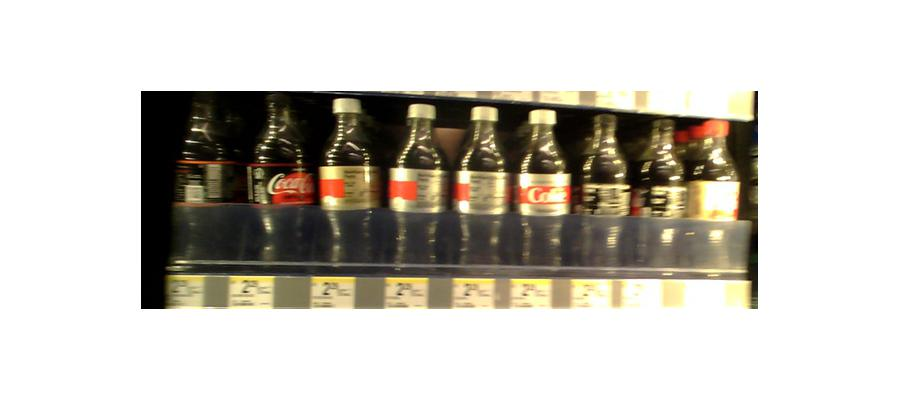bottle: (320, 95, 382, 269), (389, 97, 449, 270), (252, 92, 313, 262), (454, 104, 511, 271), (184, 97, 238, 266), (576, 107, 629, 271), (516, 104, 568, 270), (685, 117, 738, 266), (635, 111, 683, 271)
